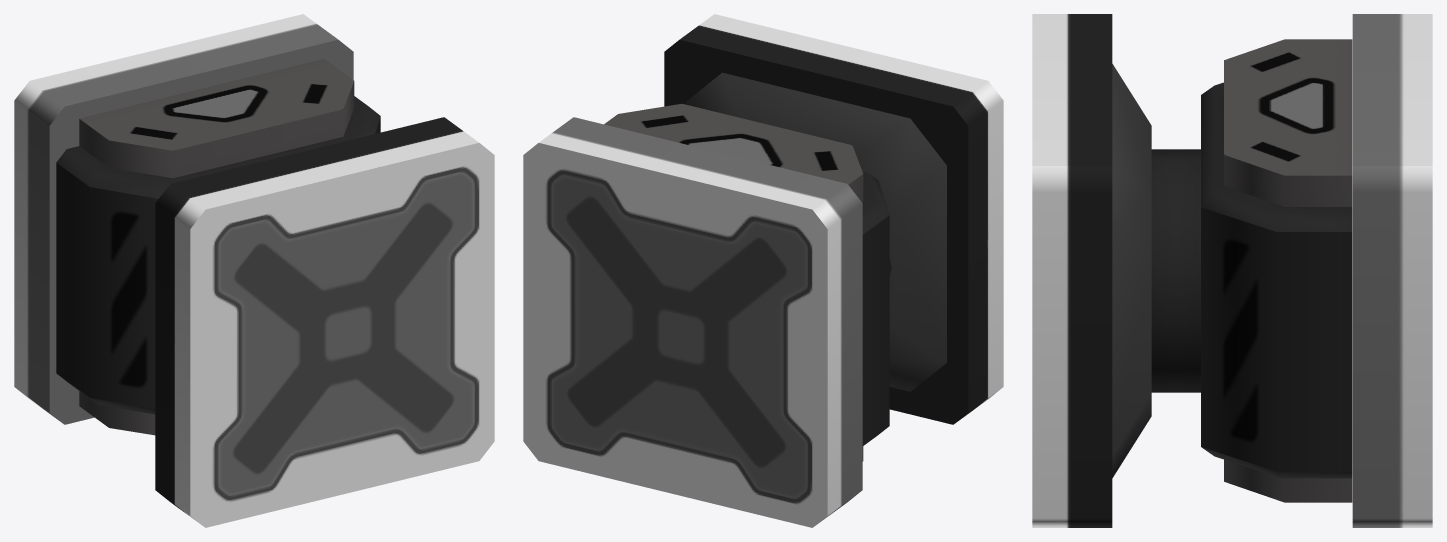
Rendered from obj_interactive_piston_03_off.fbx.
The picture shows the model from 3 angles, left to right: view 1: azimuth 30°, elevation 25°; view 2: azimuth 150°, elevation 25°; view 3: azimuth 270°, elevation 25°; orthographic projection. The views are drawn at different scales.
Parts seen in each view (by area): view 1: obj_interactive_piston_03_off; view 2: obj_interactive_piston_03_off; view 3: obj_interactive_piston_03_off.
Boxes of the visible parts, x1,y1,x2,y2 form: obj_interactive_piston_03_off: (14, 14, 494, 527); obj_interactive_piston_03_off: (523, 14, 1003, 527); obj_interactive_piston_03_off: (1032, 14, 1432, 527).
Size of the model in its own units: 1 by 1 by 1.
